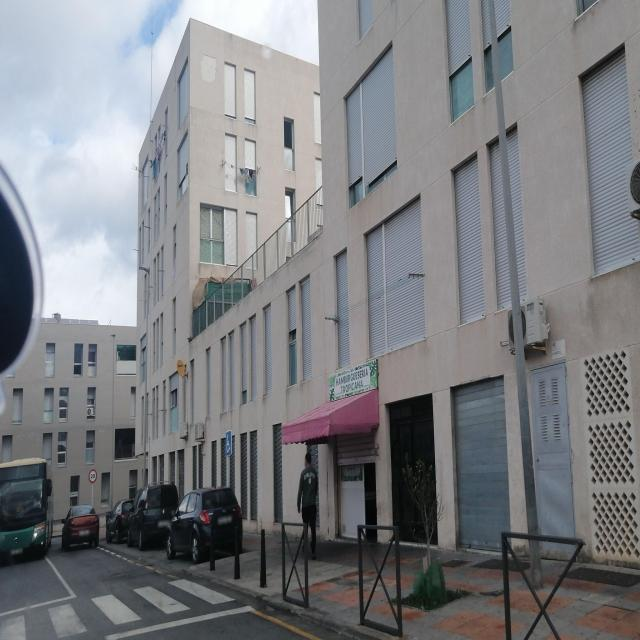car: (166, 485, 243, 564), (126, 482, 180, 550), (61, 504, 100, 550), (105, 498, 134, 544)
